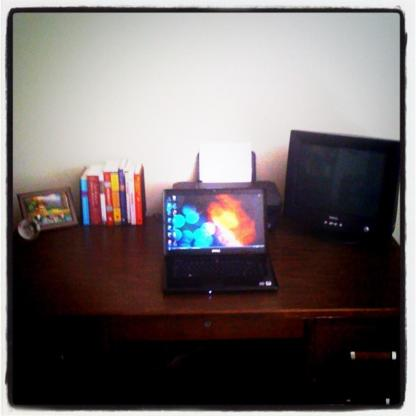board: (162, 185, 278, 297)
